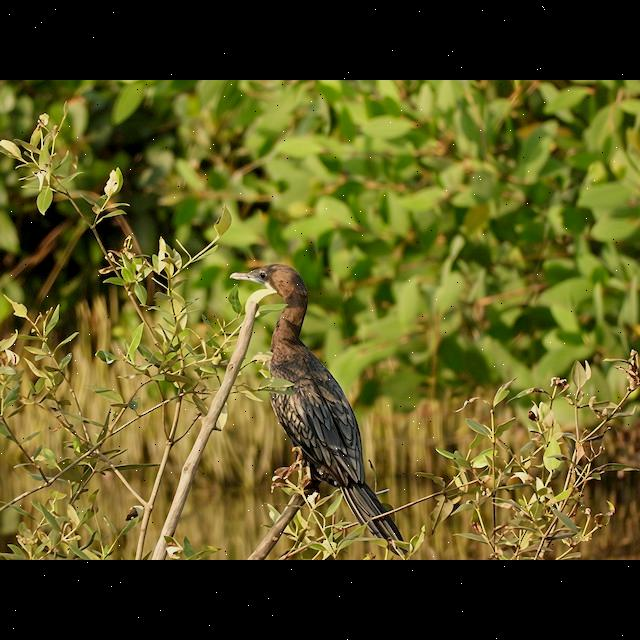cormorant: (226, 256, 410, 552)
